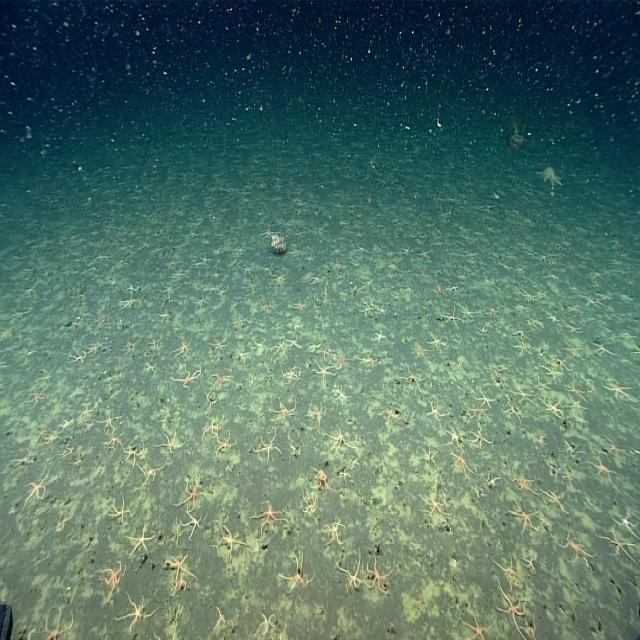brittle-stars: (495, 580, 528, 640), (596, 528, 640, 564), (276, 555, 316, 590), (164, 556, 198, 596), (118, 596, 155, 632), (494, 550, 525, 592), (215, 521, 245, 563), (507, 500, 539, 534), (99, 564, 126, 604), (367, 553, 394, 593), (559, 534, 594, 564), (336, 551, 362, 591), (609, 507, 640, 538), (587, 449, 615, 483), (251, 502, 287, 528), (44, 608, 73, 640), (457, 610, 487, 640), (176, 479, 205, 510), (252, 434, 282, 463), (25, 472, 49, 508), (507, 470, 540, 496), (129, 522, 152, 556), (326, 428, 356, 453), (324, 428, 355, 452), (419, 493, 449, 517), (540, 489, 570, 513), (602, 380, 633, 403), (452, 448, 474, 480), (155, 431, 186, 453), (604, 436, 632, 460), (179, 513, 203, 539), (173, 367, 200, 390), (398, 368, 424, 391), (109, 493, 129, 522), (140, 461, 165, 484), (325, 517, 344, 547), (311, 466, 331, 494), (201, 418, 224, 441), (468, 425, 490, 449), (212, 435, 236, 456), (300, 490, 318, 518), (444, 427, 464, 452), (270, 402, 297, 420), (441, 307, 462, 330), (125, 441, 145, 465), (312, 363, 337, 382), (474, 386, 494, 409), (566, 383, 589, 403), (258, 612, 275, 638), (56, 509, 76, 531), (543, 399, 565, 419), (511, 386, 535, 404), (564, 437, 584, 458), (98, 414, 121, 432), (306, 402, 325, 423), (425, 401, 444, 422), (103, 432, 125, 450), (14, 449, 32, 471), (210, 372, 232, 388), (422, 446, 438, 468), (501, 403, 520, 421), (411, 342, 429, 361), (168, 526, 185, 546), (532, 375, 552, 392), (173, 572, 188, 594), (426, 334, 448, 349), (69, 288, 87, 306), (594, 341, 613, 358), (24, 389, 44, 405), (520, 618, 536, 638), (268, 271, 288, 287), (513, 338, 531, 355), (173, 342, 192, 358), (272, 342, 288, 361), (236, 263, 257, 277), (563, 341, 581, 357), (542, 364, 560, 380), (250, 340, 268, 356), (58, 416, 73, 435), (160, 282, 174, 302), (215, 605, 227, 628), (41, 433, 62, 446), (469, 408, 490, 421), (568, 396, 584, 413), (552, 357, 568, 374), (282, 368, 299, 384), (123, 338, 141, 353), (380, 406, 398, 421), (332, 390, 350, 405), (328, 257, 347, 271), (484, 363, 504, 376), (209, 338, 229, 351), (260, 229, 280, 242), (485, 305, 500, 322), (22, 282, 37, 299), (8, 309, 31, 320), (521, 555, 535, 573), (67, 351, 86, 364), (564, 322, 583, 335), (78, 407, 94, 422), (0, 324, 16, 339), (462, 303, 477, 319), (240, 281, 257, 295), (205, 392, 218, 410), (355, 243, 370, 258), (236, 348, 250, 364), (86, 342, 104, 354), (120, 298, 138, 310), (232, 316, 246, 330), (572, 415, 588, 427), (416, 248, 432, 260), (33, 375, 52, 385), (148, 337, 162, 350), (364, 357, 378, 370), (415, 266, 429, 279), (88, 255, 108, 264), (286, 337, 302, 348), (164, 259, 180, 270), (512, 331, 529, 341), (321, 346, 332, 361), (586, 378, 596, 394), (372, 332, 388, 342), (523, 293, 537, 304), (528, 318, 543, 328), (545, 273, 560, 283), (361, 305, 373, 317), (199, 255, 211, 267), (583, 295, 595, 307), (293, 299, 306, 310), (242, 375, 255, 386), (309, 342, 322, 353), (340, 470, 350, 484), (402, 287, 416, 297), (288, 248, 305, 256), (537, 514, 548, 526), (489, 476, 502, 486), (159, 310, 169, 323), (195, 296, 205, 309), (84, 419, 94, 432), (305, 252, 315, 265), (61, 447, 75, 456), (69, 459, 83, 468), (330, 246, 344, 255), (311, 274, 322, 285), (376, 305, 387, 316), (513, 303, 528, 311), (146, 362, 156, 374), (261, 303, 274, 312), (548, 314, 559, 324), (172, 272, 184, 281), (98, 314, 111, 322), (128, 285, 139, 294), (446, 286, 458, 294), (0, 359, 9, 369), (338, 355, 346, 365), (400, 247, 410, 255)
